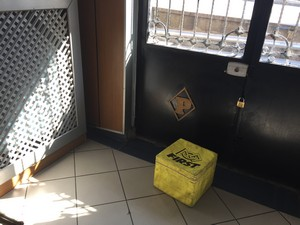cube: (153, 138, 220, 206)
